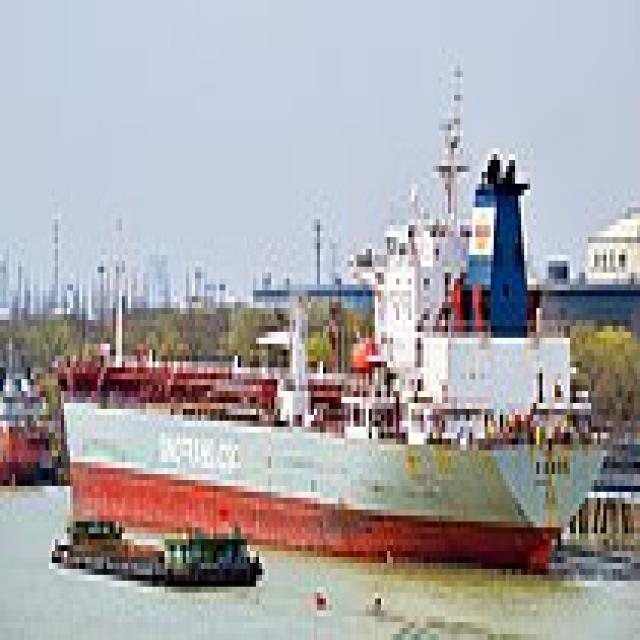Tanker: (55, 148, 609, 569)
